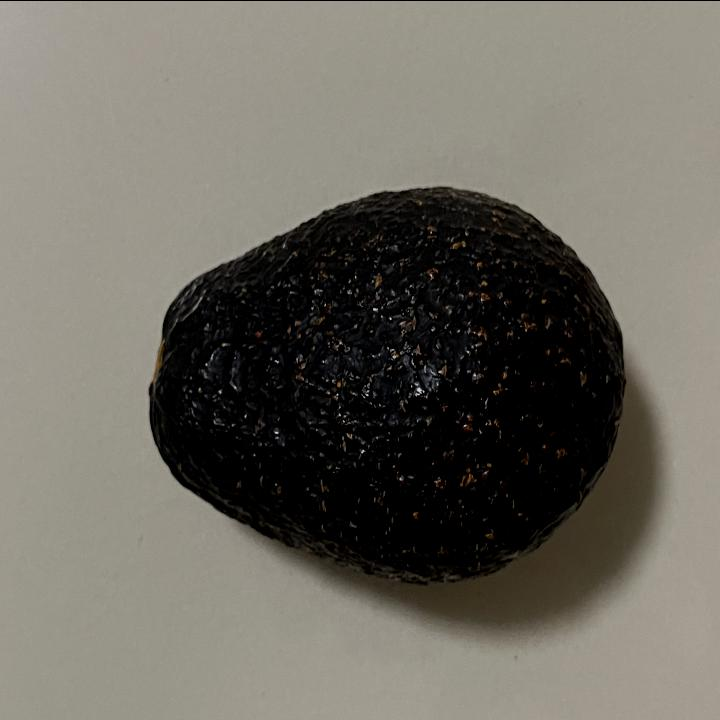Level2: (143, 176, 633, 594)
